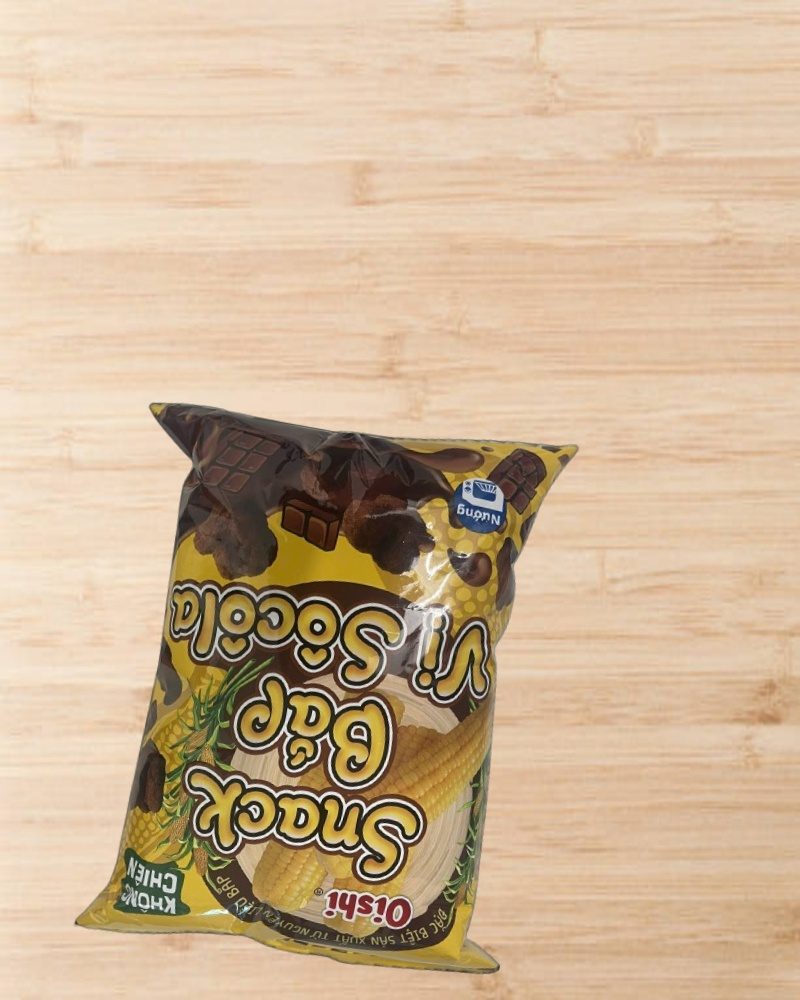Snack socola: (61, 375, 591, 999)
